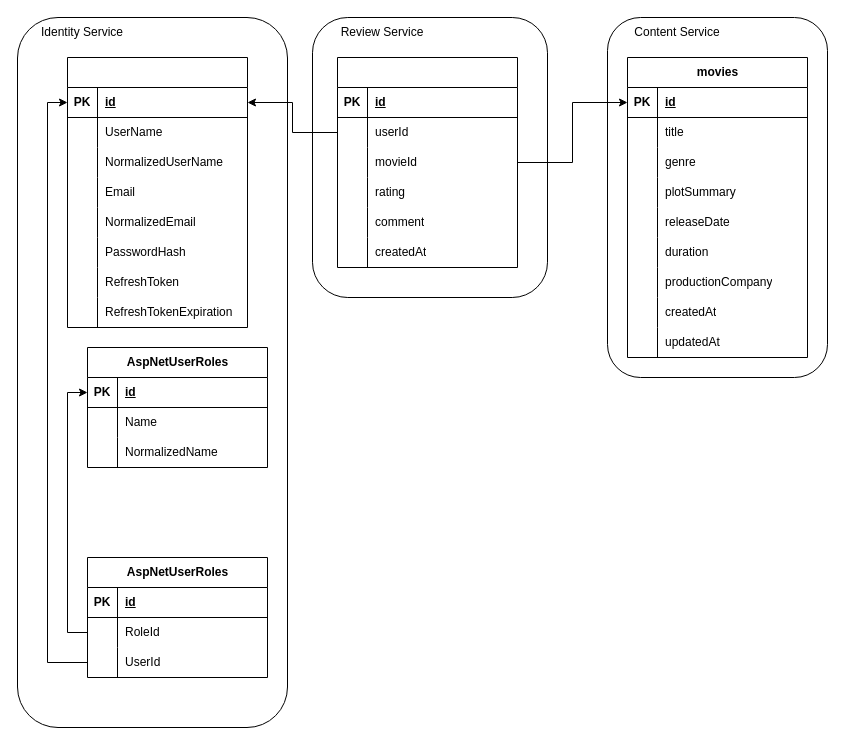
This 845x745 diagram has some shape labels left out. The box of each missing label's shape, as (x1, y1, x2, y2) in pixels:
AspNetUsers: (66, 56, 248, 328)
reviews: (336, 56, 518, 268)
